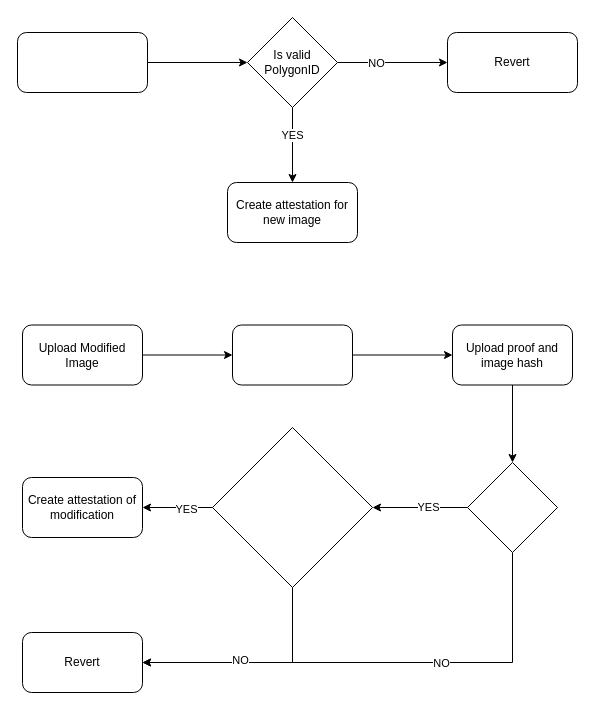
Image size: 595x710. Some labels were removed from this diagram. Here are the shapes that lost their labels. From the top down, the centre of each, then its label:
At [82,62]: "Upload original Image".
At [292,354]: "Create ZK proof for modification".
At [292,507]: "Circuit public signal hash matches original".
At [512,507]: "Is valid ZK Proof".
